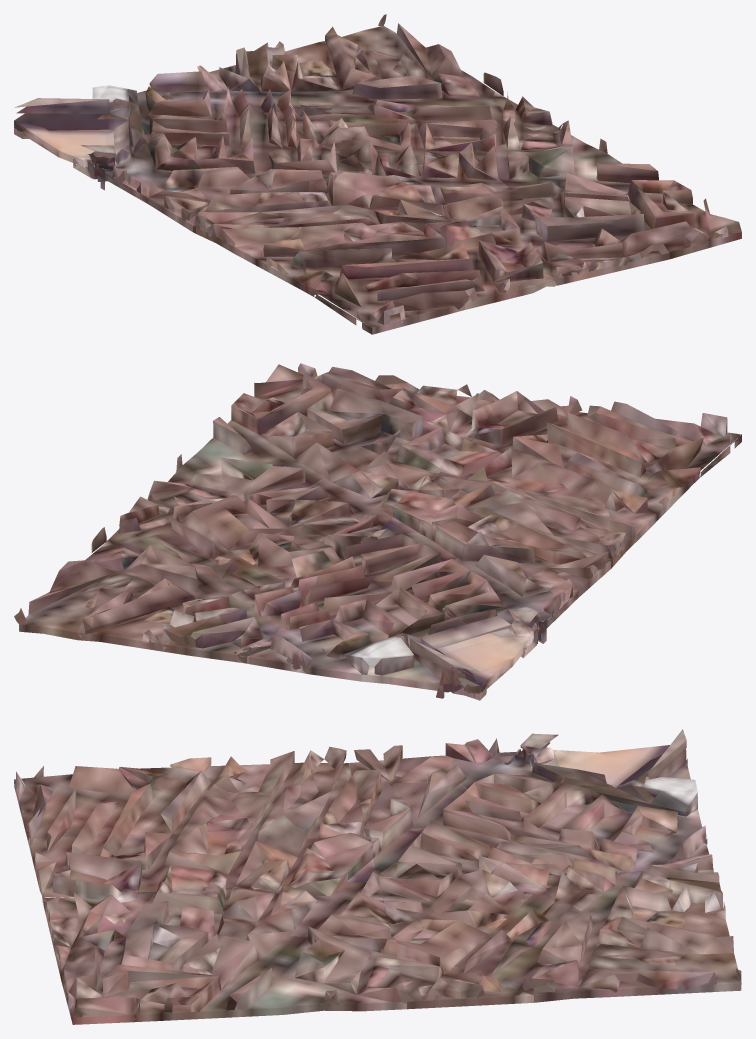
3 renders of one model, top to bottom at view 1: azimuth 30°, elevation 25°; view 2: azimuth 150°, elevation 25°; view 3: azimuth 270°, elevation 25°, orthographic. The views are drawn at different scales.
Parts seen in each view (by area): view 1: Mesh_0; view 2: Mesh_0; view 3: Mesh_0.
Part boxes in pixels (x1,y1,x2,y2): Mesh_0: [14, 14, 741, 334]; Mesh_0: [14, 363, 741, 700]; Mesh_0: [14, 729, 741, 1024].
Bounding box in the file's own units: 533 × 50.59 × 660.
Materials: 2 (2 with a texture image).
